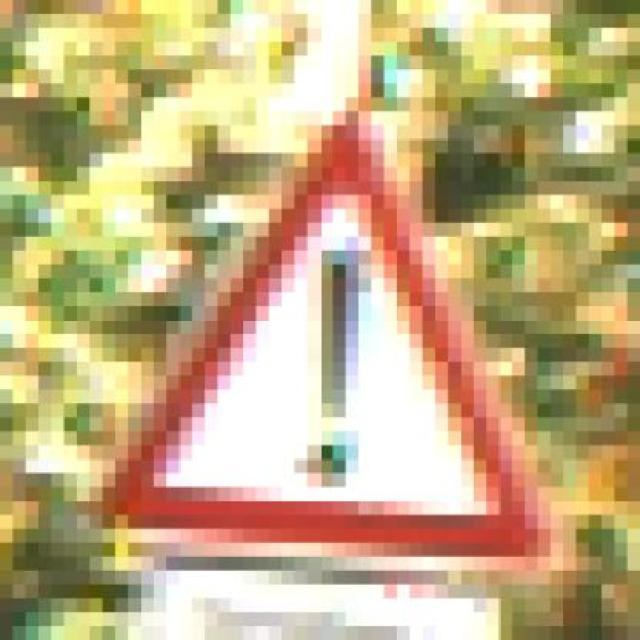Attention Please-: (64, 116, 564, 576)
